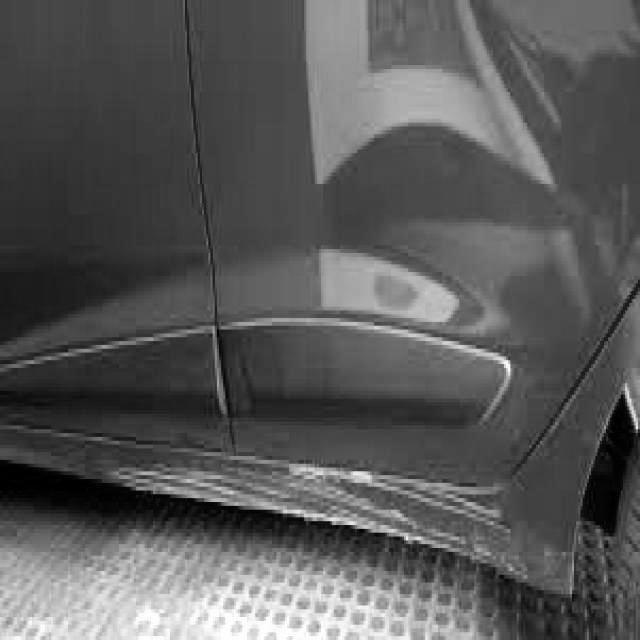Runningboard-Damage: (225, 418, 539, 575), (0, 419, 246, 518)
